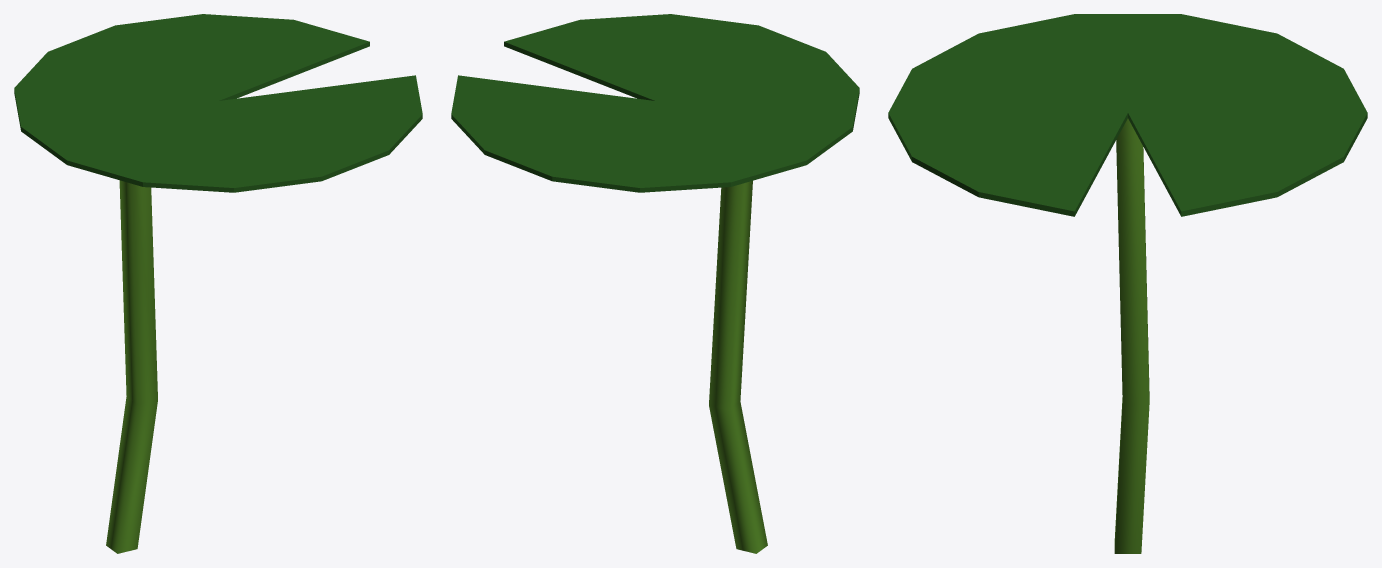
The model's file is Foliage_04.fbx.
3 renders of one model, left to right at view 1: azimuth 30°, elevation 25°; view 2: azimuth 150°, elevation 25°; view 3: azimuth 270°, elevation 25°, orthographic. The views are drawn at different scales.
Visible parts, largest first — view 1: Foliage_04; view 2: Foliage_04; view 3: Foliage_04.
Boxes of the visible parts, bbox=[...] form: Foliage_04: bbox=[14, 14, 422, 553]; Foliage_04: bbox=[451, 14, 859, 553]; Foliage_04: bbox=[888, 14, 1367, 553].
Bounding box in the file's own units: 47.65 × 55.17 × 48.88.
